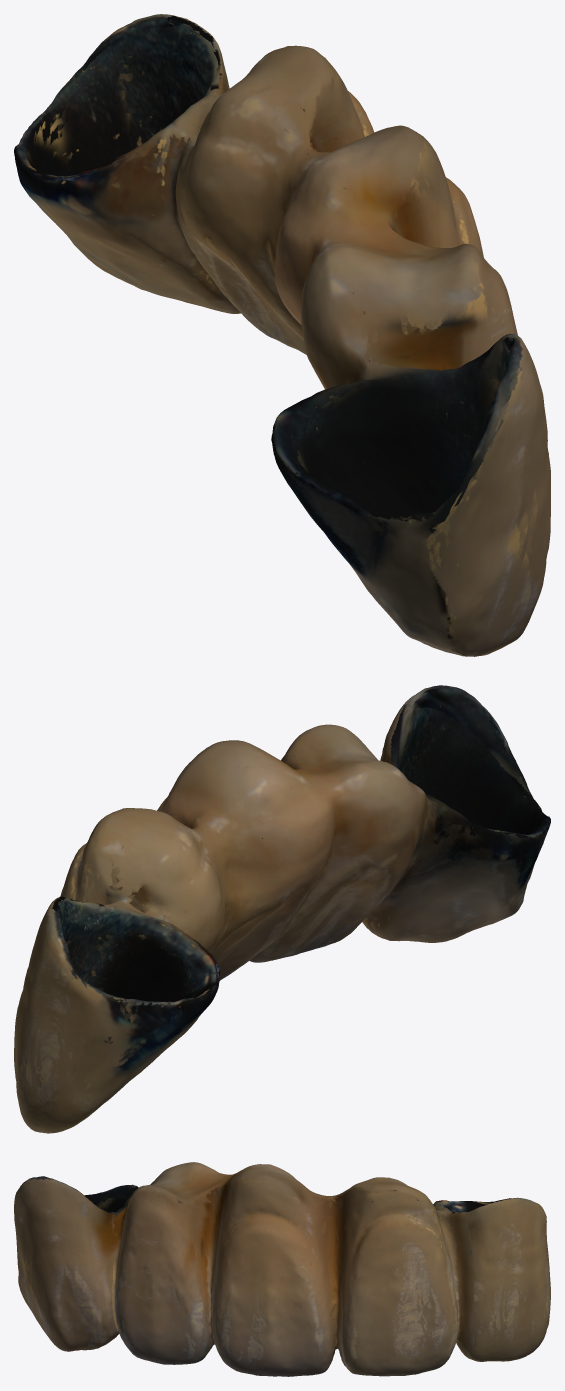
The model's file is pfm.glb.
3 views of the same model, one above another, from view 1: azimuth 30°, elevation 25°; view 2: azimuth 150°, elevation 25°; view 3: azimuth 270°, elevation 25° (orthographic). The views are drawn at different scales.
Parts seen in each view (by area): view 1: pfm bridges LowerJawScan; view 2: pfm bridges LowerJawScan; view 3: pfm bridges LowerJawScan.
Boxes of the visible parts, bbox=[...] form: pfm bridges LowerJawScan: bbox=[14, 14, 550, 656]; pfm bridges LowerJawScan: bbox=[14, 685, 550, 1133]; pfm bridges LowerJawScan: bbox=[14, 1162, 550, 1376].
Bounding box in the file's own units: 1.37 × 1.35 × 3.3.
Materials: 1 (1 with a texture image).
